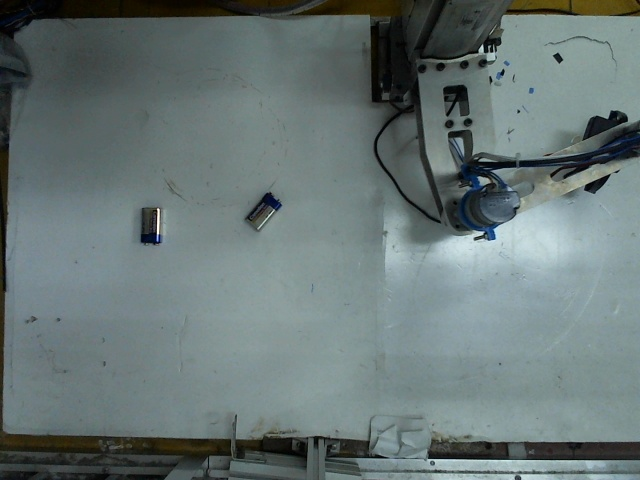battery: (242, 192, 284, 231), (131, 202, 168, 241)
